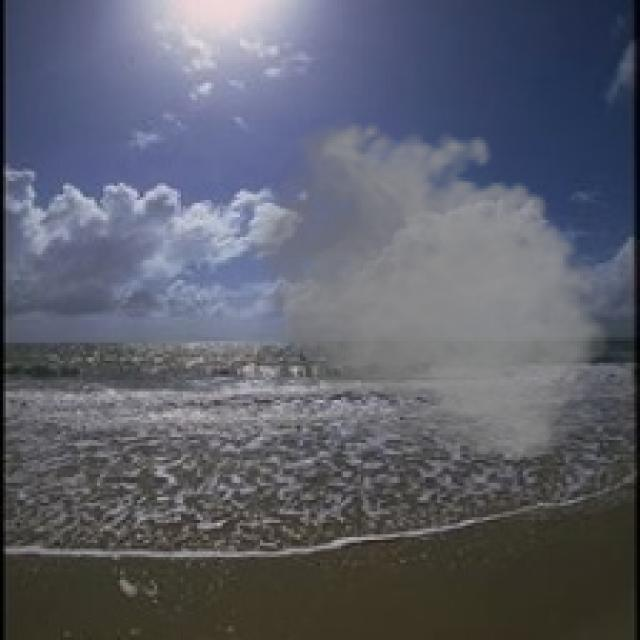smoke: (226, 111, 620, 466)
